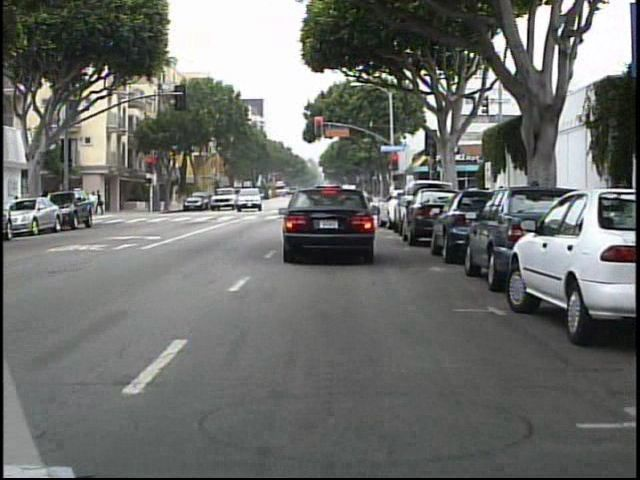person: (99, 188, 112, 218), (88, 189, 101, 217)
